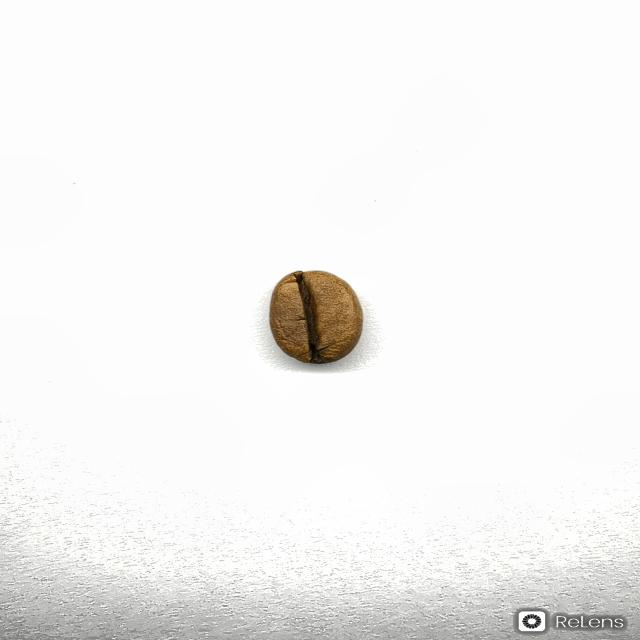Quaker: (268, 269, 364, 364)
